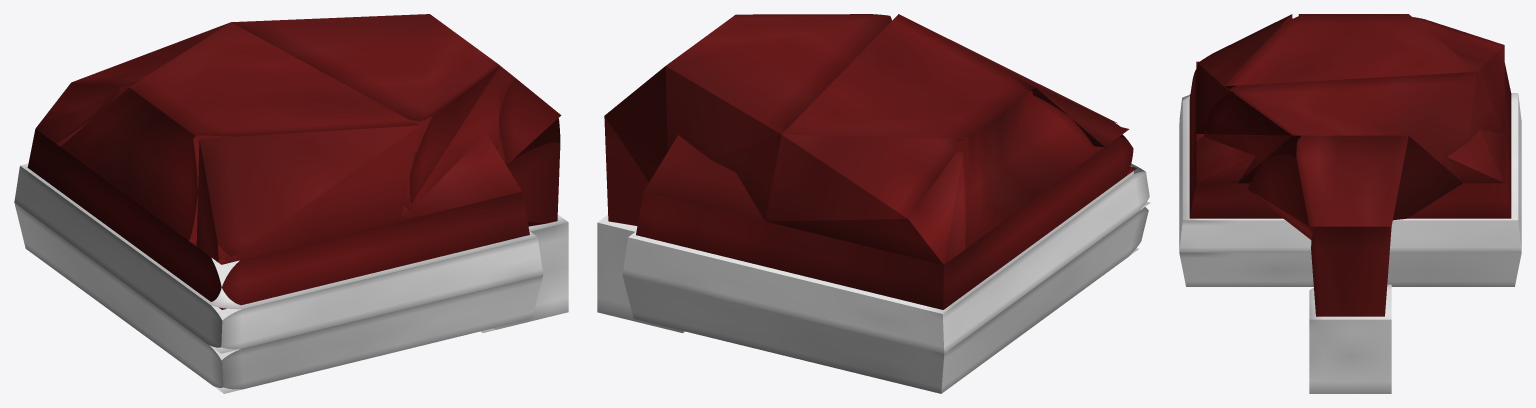
The model's file is santahat.obj.
3 renders of one model, left to right at view 1: azimuth 30°, elevation 25°; view 2: azimuth 150°, elevation 25°; view 3: azimuth 270°, elevation 25°, orthographic. The views are drawn at different scales.
Visible parts, largest first — view 1: headModel4, headModel2, headModel6, headModel0, headModel1, headModel11, headModel5, headModel8, headModel9, headModel3, headModel10; view 2: headModel4, headModel2, headModel1, headModel0, headModel5, headModel11, headModel7, headModel9, headModel3, headModel10, headModel6; view 3: headModel1, headModel3, headModel4, headModel2, headModel11, headModel0, headModel9, headModel10, headModel6, headModel5, headModel7, headModel8.
Part boxes in pixels (x1=…): headModel4: x1=60, y1=22, x2=418, y2=246; headModel2: x1=14, y1=163, x2=543, y2=353; headModel6: x1=196, y1=125, x2=419, y2=264; headModel0: x1=27, y1=113, x2=529, y2=309; headModel1: x1=231, y1=14, x2=500, y2=220; headModel11: x1=14, y1=202, x2=543, y2=393; headModel5: x1=35, y1=22, x2=230, y2=143; headModel8: x1=401, y1=115, x2=521, y2=220; headModel9: x1=500, y1=79, x2=560, y2=226; headModel3: x1=498, y1=66, x2=561, y2=164; headModel10: x1=480, y1=214, x2=568, y2=332; headModel4: x1=782, y1=14, x2=1097, y2=246; headModel2: x1=622, y1=163, x2=1150, y2=353; headModel1: x1=665, y1=14, x2=891, y2=220; headModel0: x1=636, y1=134, x2=1136, y2=309; headModel5: x1=765, y1=134, x2=967, y2=264; headModel11: x1=622, y1=207, x2=1148, y2=393; headModel7: x1=643, y1=135, x2=764, y2=221; headModel9: x1=604, y1=116, x2=659, y2=225; headModel3: x1=604, y1=66, x2=667, y2=164; headModel10: x1=597, y1=215, x2=684, y2=332; headModel6: x1=905, y1=17, x2=1129, y2=147; headModel1: x1=1205, y1=72, x2=1504, y2=183; headModel3: x1=1247, y1=135, x2=1462, y2=239; headModel4: x1=1224, y1=14, x2=1476, y2=89; headModel2: x1=1179, y1=93, x2=1521, y2=252; headModel11: x1=1179, y1=252, x2=1521, y2=286; headModel0: x1=1189, y1=63, x2=1511, y2=218; headModel9: x1=1311, y1=226, x2=1391, y2=316; headModel10: x1=1309, y1=284, x2=1391, y2=393; headModel6: x1=1196, y1=14, x2=1292, y2=133; headModel5: x1=1412, y1=17, x2=1504, y2=133; headModel7: x1=1447, y1=129, x2=1504, y2=183; headModel8: x1=1196, y1=131, x2=1255, y2=183.
Size of the model in its own units: 11.9 by 7.3 by 10.
